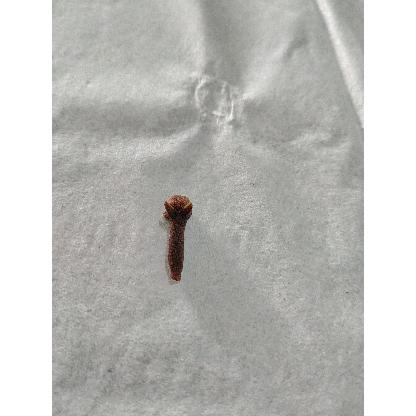baik: (163, 195, 194, 283)
